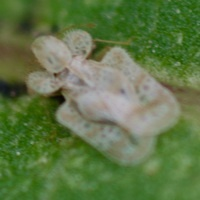insect: (27, 30, 179, 165)
